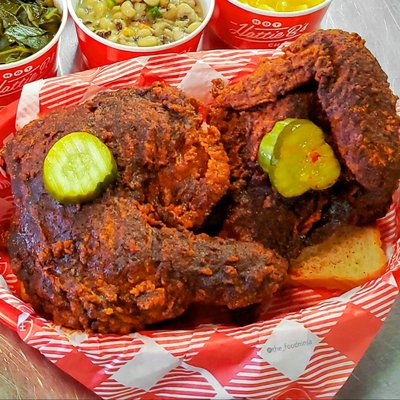sushi: (66, 0, 216, 68), (0, 0, 68, 111)
